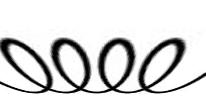inductor: (1, 39, 201, 96)
